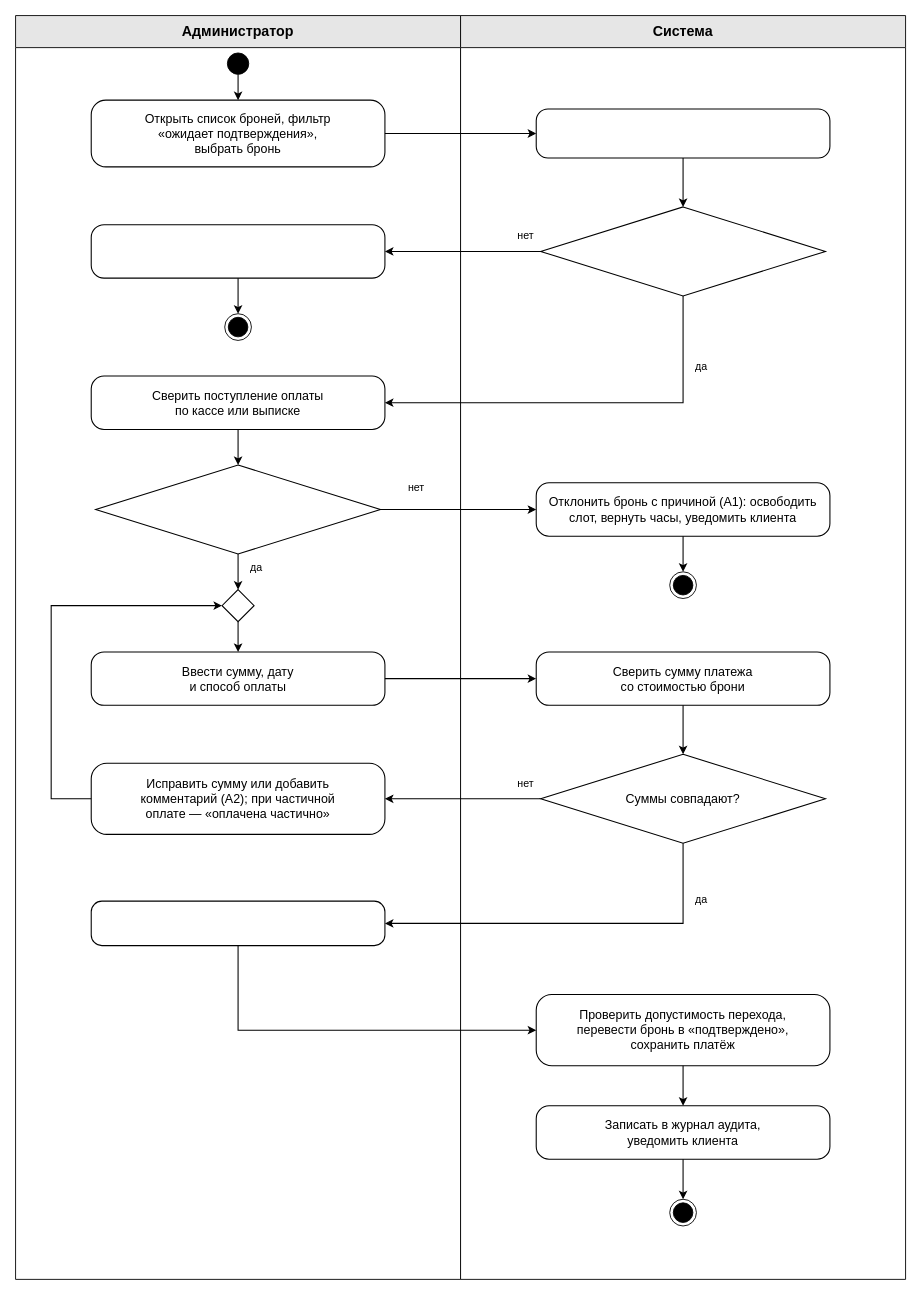
Image size: 921x1295. Some labels were removed from this diagram. Here are the shapes that lost their labels. From the top down, the box of each, then its label:
(535, 108, 830, 158): Показать список и детали выбранной брони
(90, 224, 385, 278): Увидеть статус «отменено»; подтверждение заблокировано (A3)
(540, 206, 826, 296): Бронь всё ещё «ожидает подтверждения»?
(95, 464, 381, 554): Оплата поступила?
(90, 900, 385, 946): Нажать «Подтвердить бронь»
